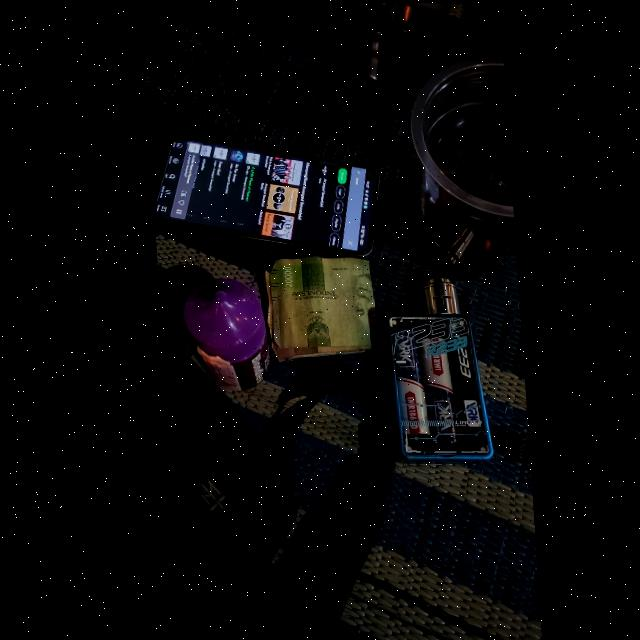vape: (375, 271, 490, 464)
